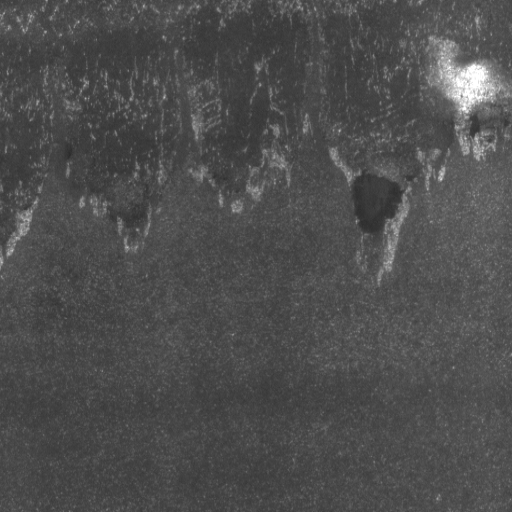aokeng: (347, 170, 405, 238)
qiaopi: (421, 33, 511, 161)
